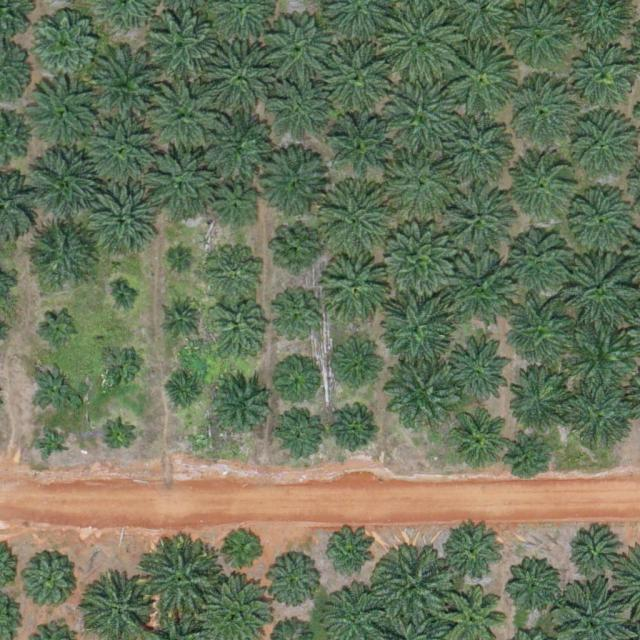Healthy: (374, 549, 452, 628), (143, 546, 221, 625), (90, 48, 168, 127), (382, 3, 460, 81), (565, 385, 636, 456), (569, 251, 640, 322), (505, 292, 576, 363), (449, 45, 520, 116), (257, 151, 328, 222), (30, 81, 101, 152), (31, 147, 102, 218), (25, 219, 96, 290), (29, 10, 100, 81), (567, 321, 637, 392), (506, 77, 577, 147), (443, 111, 513, 182), (441, 185, 512, 255), (444, 341, 514, 412), (386, 79, 456, 150), (385, 147, 455, 218), (387, 356, 457, 427), (320, 182, 390, 253), (318, 251, 388, 322), (206, 44, 277, 114), (197, 107, 268, 177), (151, 80, 221, 151), (144, 145, 214, 216), (87, 116, 157, 187), (85, 184, 156, 254), (322, 40, 392, 111), (570, 179, 640, 249), (567, 108, 637, 178), (447, 250, 517, 320), (384, 222, 454, 292), (381, 294, 451, 364), (267, 14, 337, 84), (147, 12, 217, 82), (514, 151, 577, 214), (509, 368, 572, 431), (209, 376, 272, 439), (443, 523, 505, 586), (19, 549, 81, 612), (509, 229, 571, 292), (329, 118, 391, 181), (573, 45, 635, 107), (266, 556, 321, 612), (449, 411, 504, 466), (327, 337, 382, 392), (206, 245, 261, 300), (211, 304, 266, 359), (272, 85, 326, 140), (332, 409, 379, 457), (210, 184, 257, 232), (572, 533, 619, 580), (511, 563, 558, 610), (275, 298, 322, 345), (277, 412, 324, 459)
Small: (323, 528, 377, 583), (274, 226, 321, 274), (32, 366, 79, 413), (225, 529, 265, 569), (275, 363, 314, 403), (42, 310, 81, 350), (99, 347, 139, 386), (508, 437, 548, 476), (165, 375, 204, 414), (103, 423, 134, 455), (36, 429, 67, 461), (167, 303, 198, 334), (172, 247, 196, 271), (113, 286, 136, 310)
